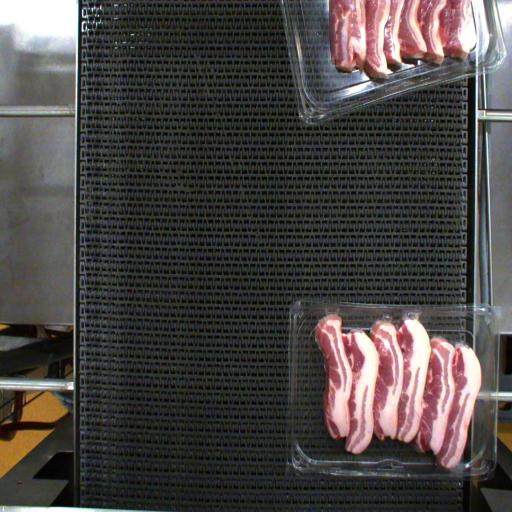packaging-error: (398, 301, 428, 327), (318, 299, 344, 327)
